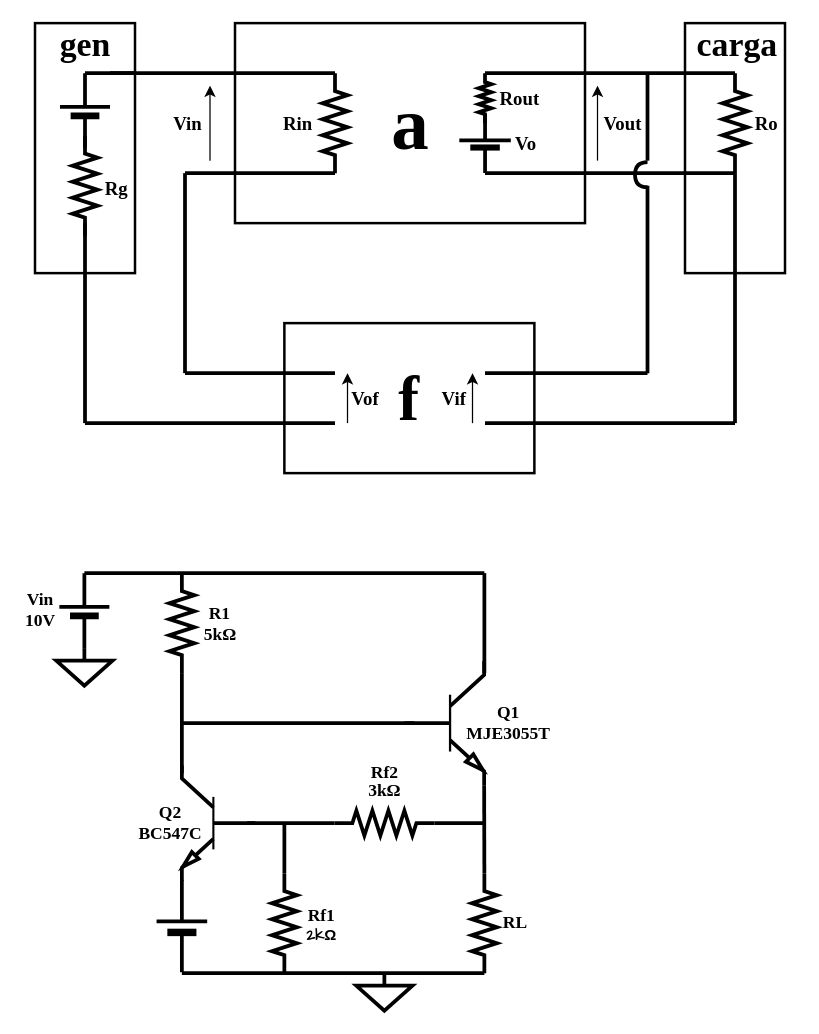
Some shapes in this 819 by 1034 pixel diagram are drawn without their labels. Here are the shapes that lost their labels. From the top down, the box of each, then its label:
(58, 71, 111, 149): Vref
(154, 877, 208, 974): V2 1.3V
